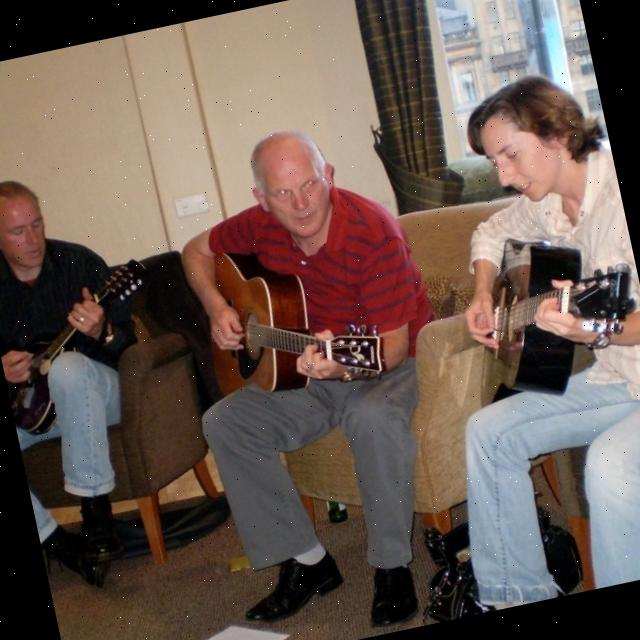guitar: (188, 222, 395, 416), (446, 212, 640, 411)
